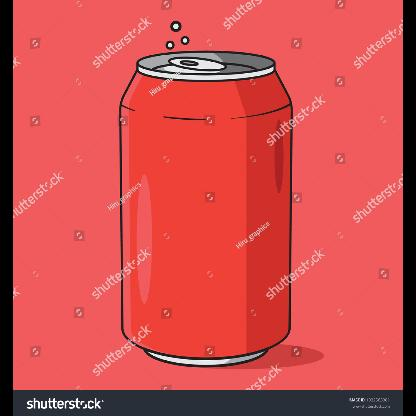Tin_Can: (112, 34, 308, 374)
